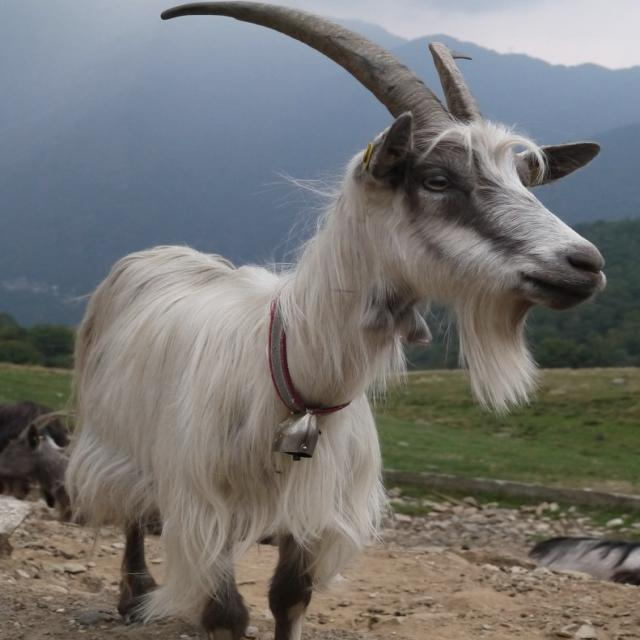Goat: (60, 0, 608, 638), (2, 401, 75, 520)
